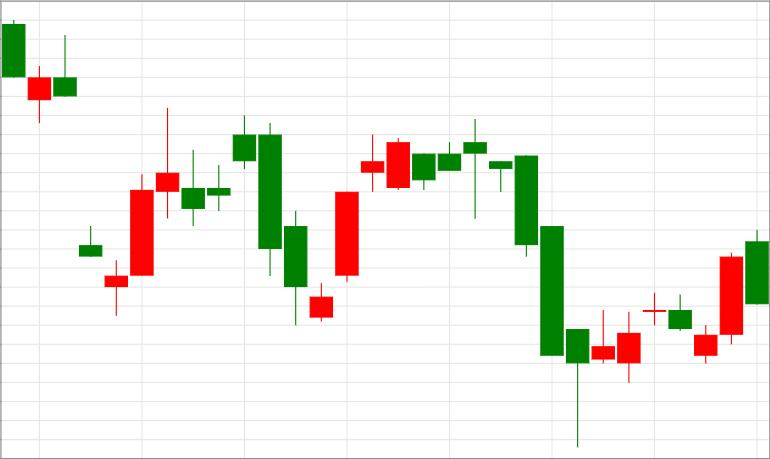hammer_rise: (463, 120, 589, 447)
morning_star_rise: (233, 115, 358, 327)
